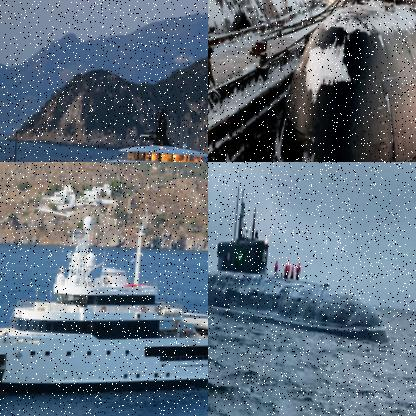Submarine: (208, 162, 403, 346), (270, 0, 415, 161), (208, 0, 341, 105)
Yacht: (0, 200, 207, 416), (0, 98, 207, 161)
